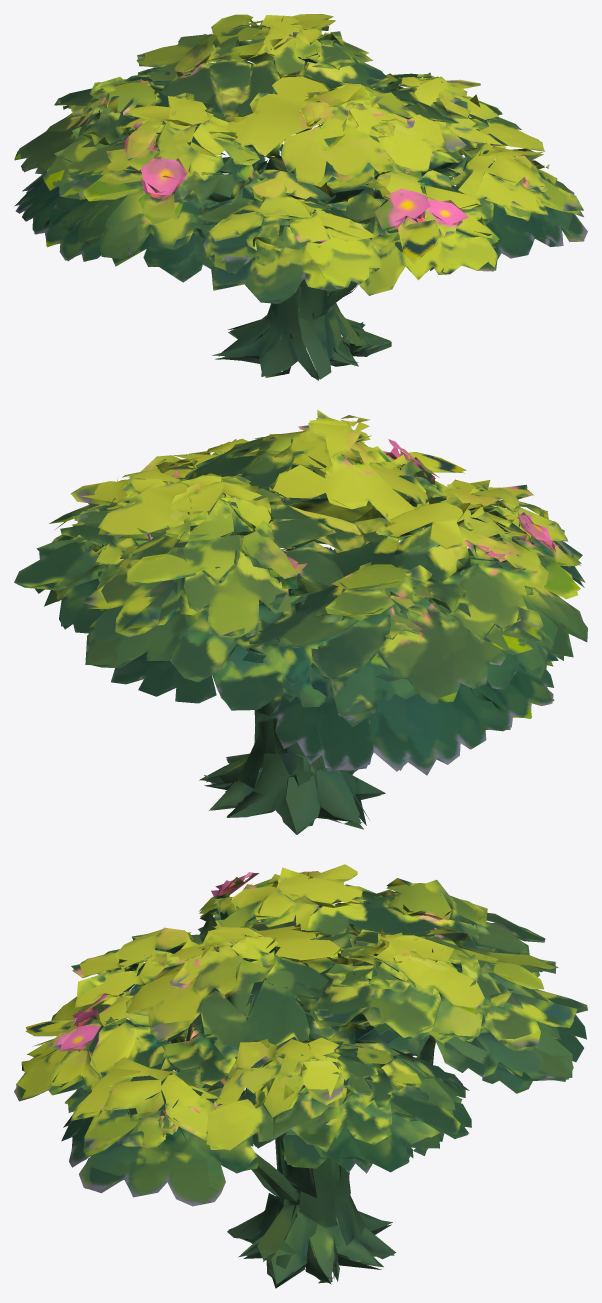
The model's file is bush.glb.
3 renders of one model, top to bottom at view 1: azimuth 30°, elevation 25°; view 2: azimuth 150°, elevation 25°; view 3: azimuth 270°, elevation 25°, orthographic. The views are drawn at different scales.
Parts seen in each view (by area): view 1: Body; view 2: Body; view 3: Body.
Part boxes in pixels (left/top/right/bottom): Body: left=14, top=14, right=587, bottom=380; Body: left=14, top=409, right=587, bottom=834; Body: left=14, top=864, right=587, bottom=1288.
Size of the model in its own units: 1.91 by 1.2 by 1.9.
1 material, 1 textured.
